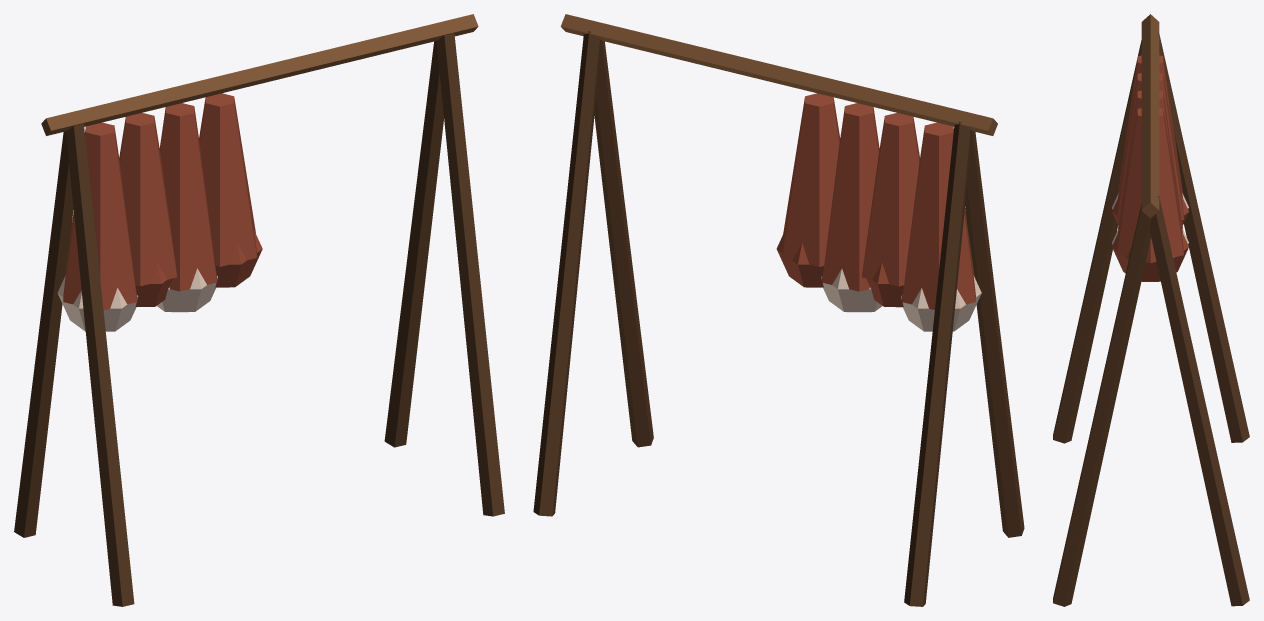
The model's file is pile_meat_1.glb.
3 renders of one model, left to right at view 1: azimuth 30°, elevation 25°; view 2: azimuth 150°, elevation 25°; view 3: azimuth 270°, elevation 25°, orthographic. The views are drawn at different scales.
Parts seen in each view (by area): view 1: pile_meat_1; view 2: pile_meat_1; view 3: pile_meat_1.
Part boxes in pixels (x1,y1,x2,y2): pile_meat_1: (14, 14, 504, 606); pile_meat_1: (533, 14, 1024, 606); pile_meat_1: (1053, 14, 1249, 606).
Bounding box in the file's own units: 1.5 × 1.54 × 0.6621.
